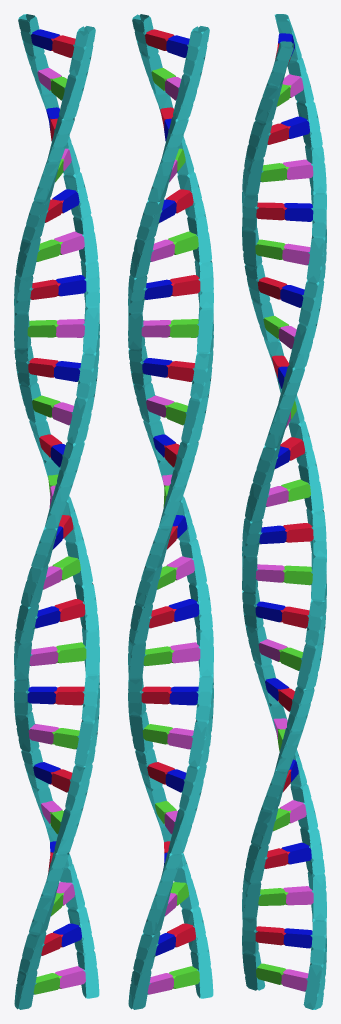
File: model_dna.glb
3 renders of one model, left to right at view 1: azimuth 30°, elevation 25°; view 2: azimuth 210°, elevation 25°; view 3: azimuth 330°, elevation 25°, orthographic.
Parts seen in each view (by area): view 1: Cube; view 2: Cube; view 3: Cube.
Boxes of the visible parts, x1=… form: Cube: x1=14, y1=14, x2=99, y2=1009; Cube: x1=128, y1=14, x2=213, y2=1009; Cube: x1=242, y1=14, x2=326, y2=1009.
Bounding box in the file's own units: 1.79 × 21.73 × 1.53.
